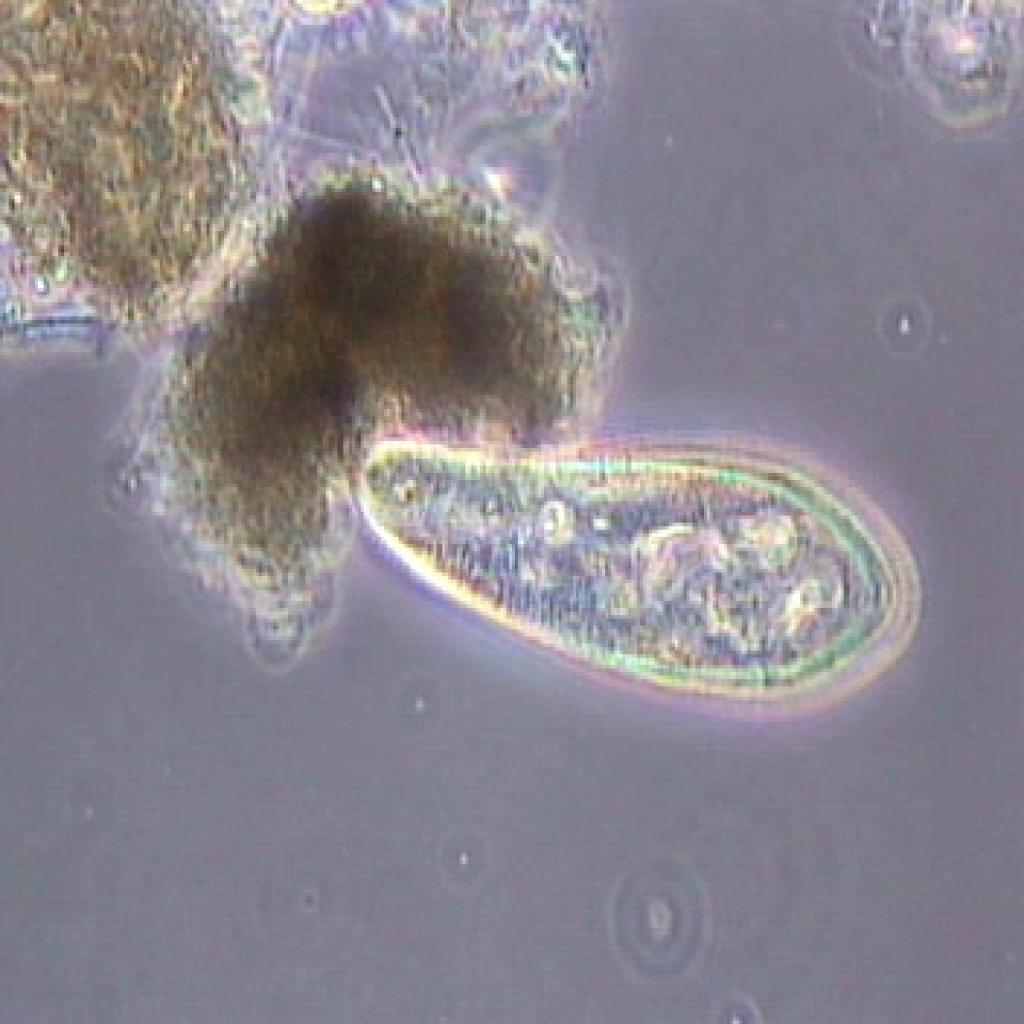Paramecium: (367, 405, 928, 722)
